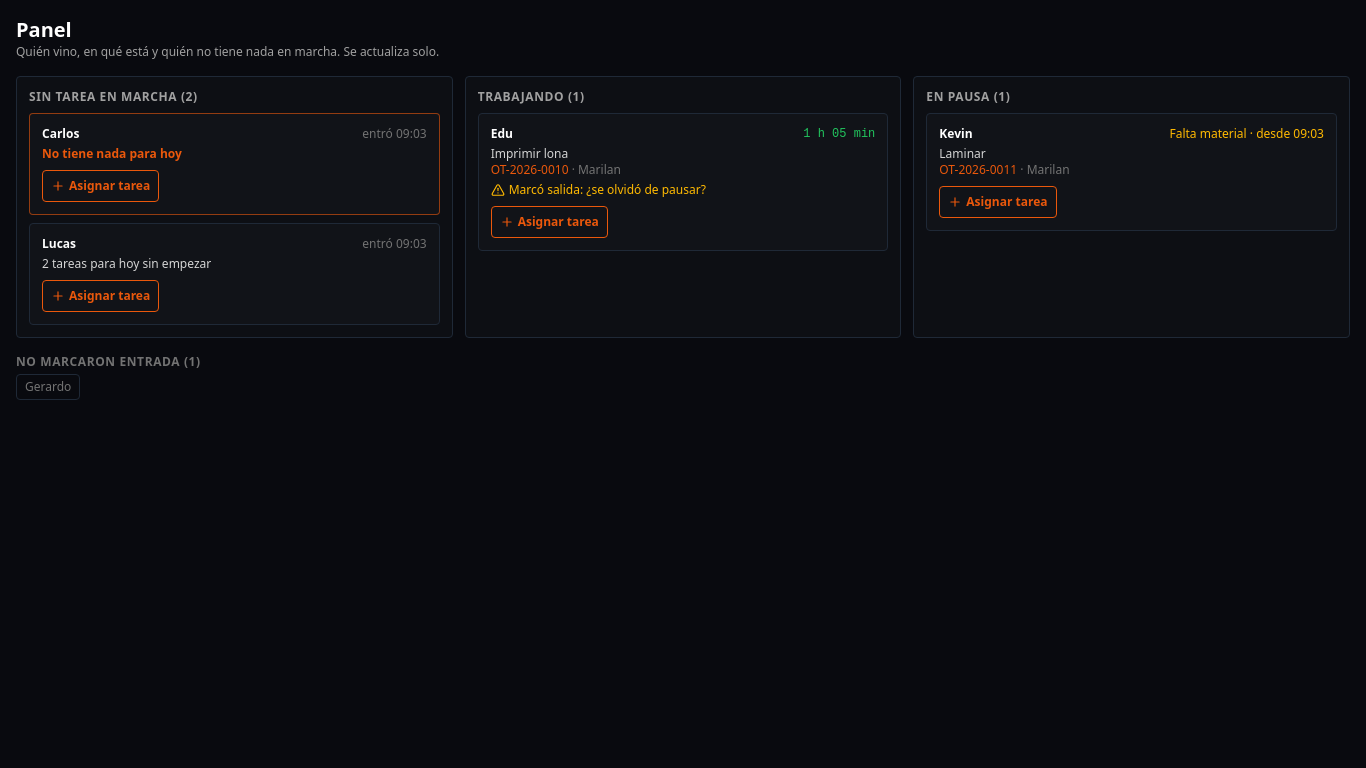
Scenario: Loop 14 — Panel de Gerardo (pantalla) › asignar con la hoja en borrador: crea la tarea para esa persona y activa la hoja
Later steps or results of the test are not shown.
Click the button with aria-label "Asignar tarea a Carlos" at (101, 186), box [42,170,159,202]
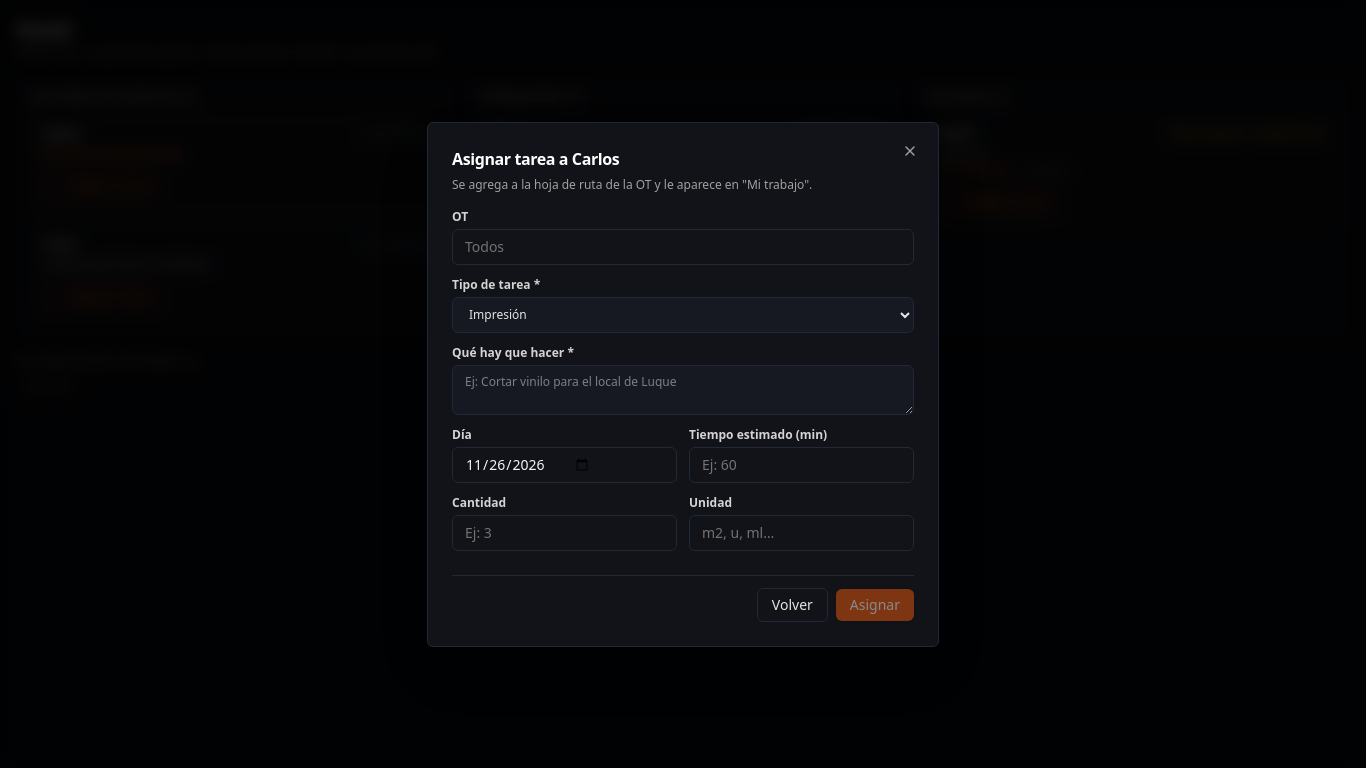
Type "Casetas" into the field named "OT" at (683, 246), box [452,228,914,264]
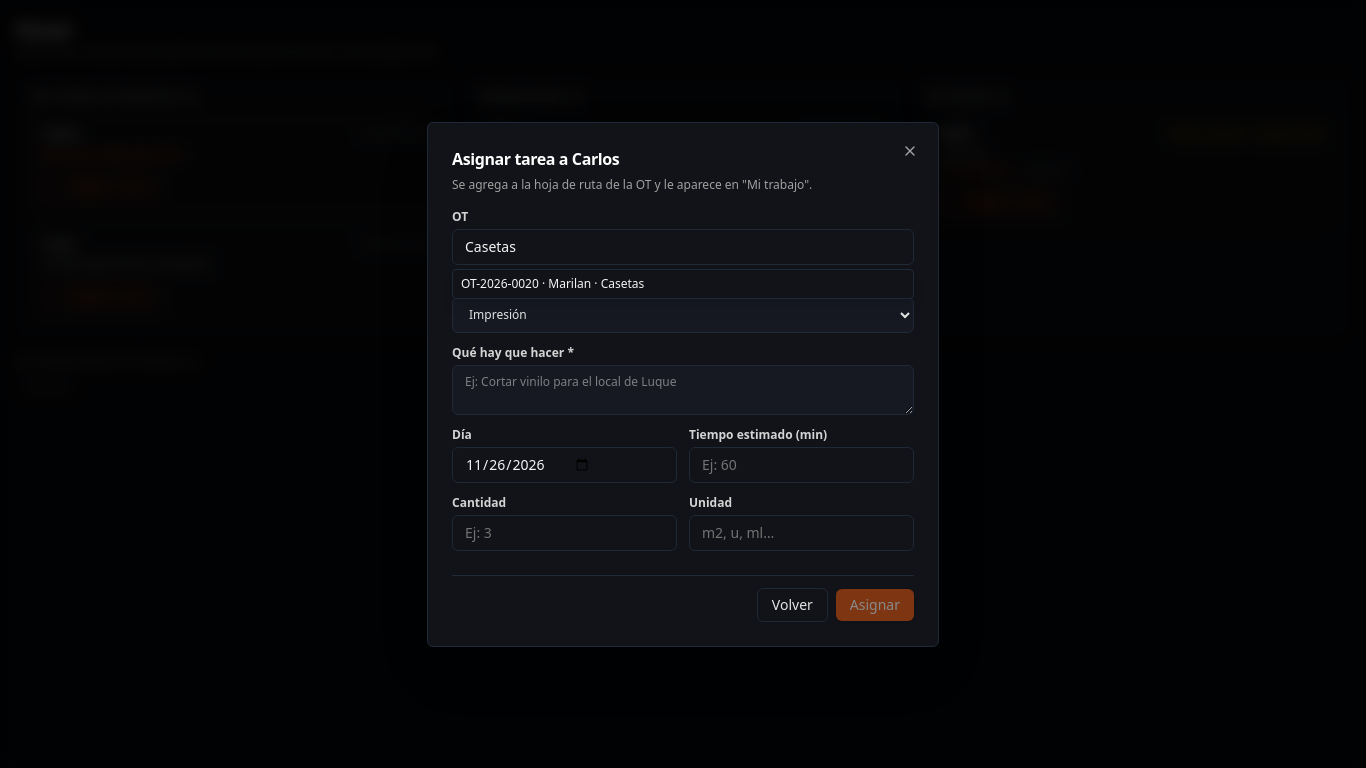
Click the button "OT-2026-0020 · Marilan · Casetas" at (553, 283), box [453,270,913,298]
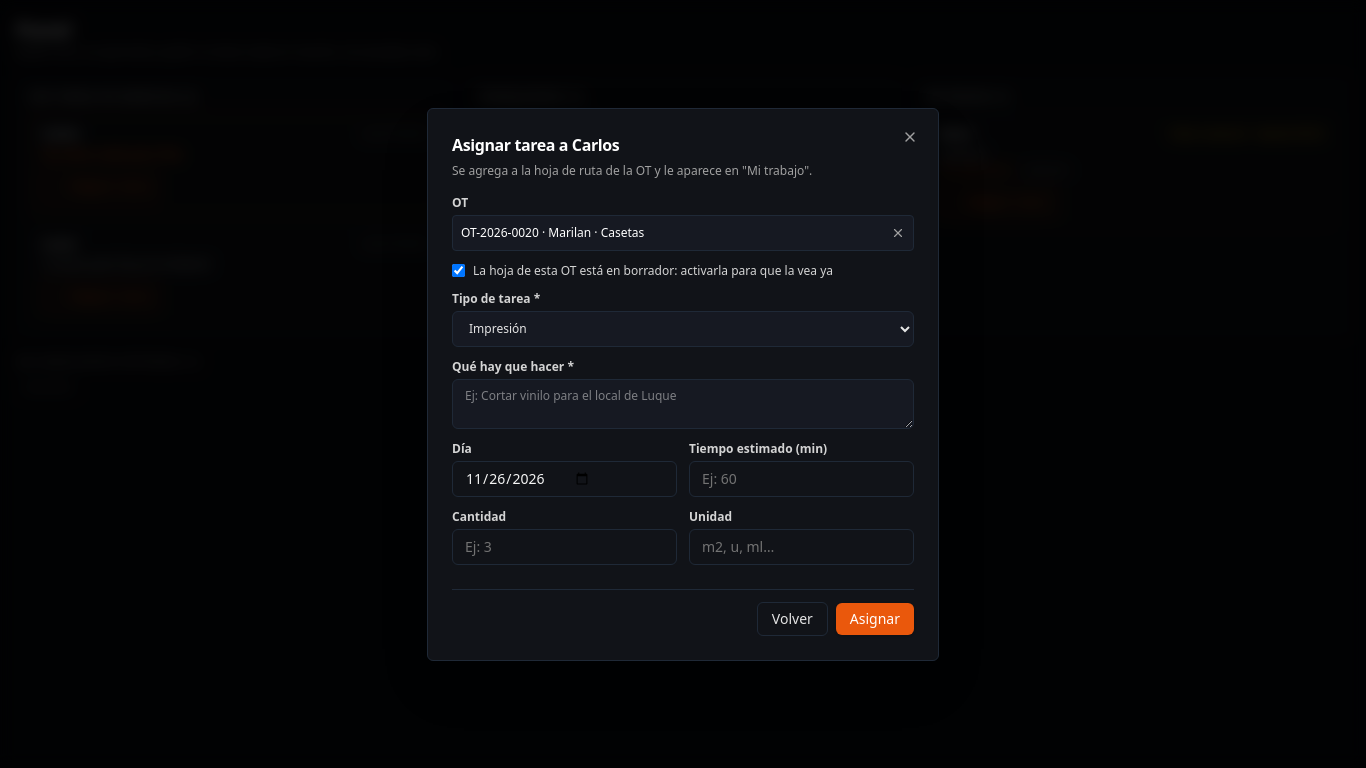
Check: the checkbox labelled "activarla para que la vea ya" is checked, box [452,264,465,277]
